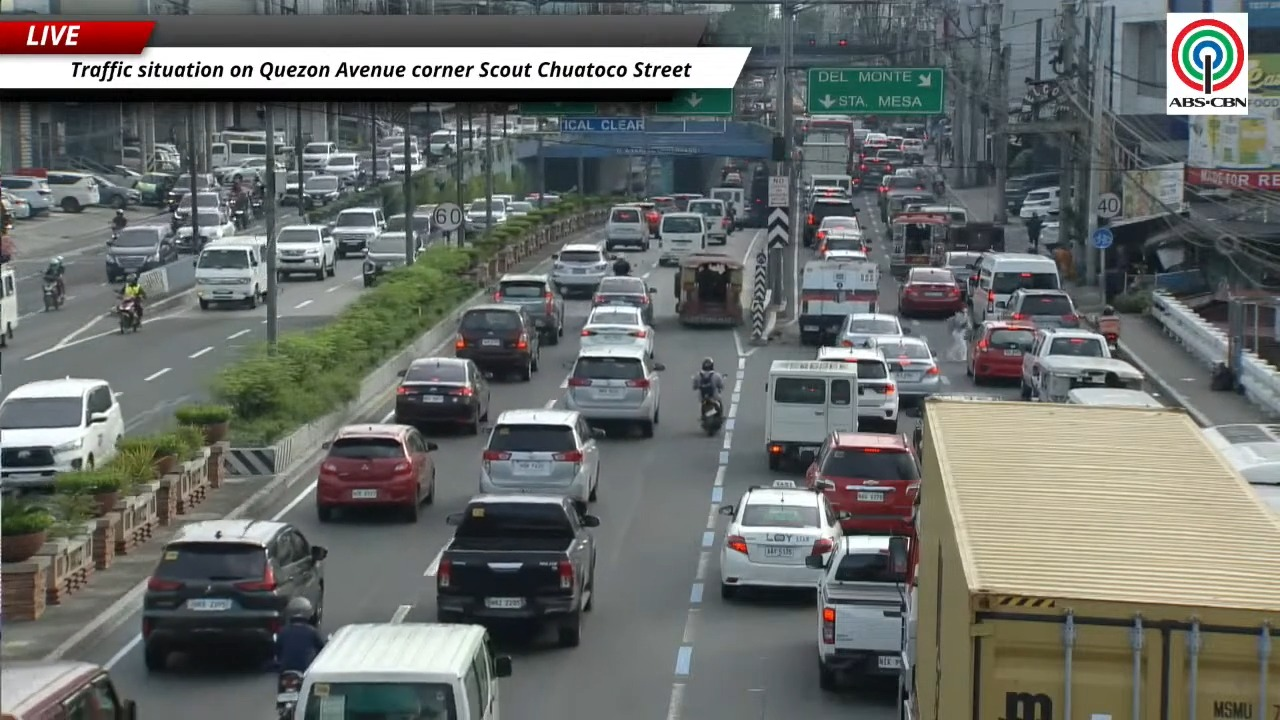car: (141, 519, 327, 671), (436, 494, 599, 646), (806, 535, 906, 690), (720, 480, 842, 598), (0, 378, 123, 489), (479, 409, 603, 513), (315, 423, 437, 521), (806, 431, 919, 534), (564, 346, 664, 437), (393, 357, 490, 434), (816, 347, 899, 431), (454, 303, 540, 381), (1020, 328, 1113, 399), (492, 273, 564, 344), (875, 336, 943, 402), (966, 321, 1034, 383), (104, 225, 177, 282), (580, 305, 655, 357), (276, 225, 336, 280), (898, 267, 964, 316), (1004, 288, 1080, 328), (592, 276, 655, 324), (552, 243, 610, 295), (331, 207, 386, 258), (173, 209, 235, 252), (803, 196, 856, 246), (364, 231, 424, 271), (45, 170, 100, 212), (838, 313, 905, 347), (0, 175, 52, 216), (877, 174, 925, 218), (605, 205, 650, 251), (687, 198, 732, 244), (166, 173, 220, 211), (941, 251, 981, 300), (816, 227, 866, 259), (815, 215, 861, 249), (464, 197, 506, 234), (93, 175, 140, 208), (302, 174, 343, 209), (213, 156, 266, 183), (1019, 186, 1060, 219), (280, 170, 318, 204), (323, 154, 359, 184), (633, 201, 661, 235), (0, 192, 31, 218), (360, 157, 391, 183), (412, 208, 432, 246), (197, 191, 225, 211), (672, 193, 703, 211), (901, 138, 924, 162), (821, 249, 867, 261), (525, 192, 560, 207), (650, 196, 679, 213), (507, 201, 535, 217), (722, 171, 742, 186)
motorcycle: (277, 670, 302, 719), (1095, 314, 1120, 352), (699, 397, 723, 435), (114, 299, 140, 333), (42, 279, 64, 311), (362, 258, 381, 287), (233, 204, 248, 230), (170, 215, 183, 233), (108, 229, 118, 243)
truck: (890, 398, 1279, 719), (437, 494, 599, 646), (799, 260, 879, 345), (1020, 328, 1112, 399), (846, 184, 849, 189)
